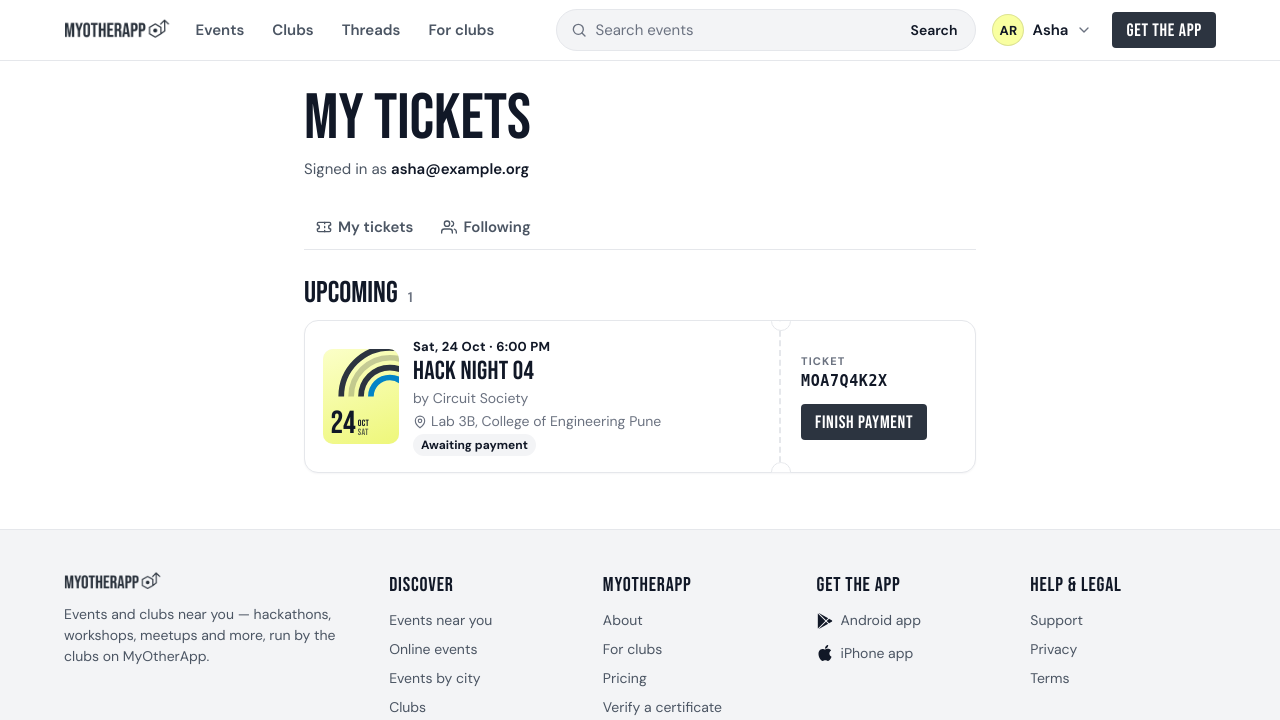
Test: Finish payment, from My tickets › after a closed checkout, says the registration is kept and nothing was charged
This screenshot has width=1280, height=720.
Click the button with aria-label "Finish payment for Hack Night 04": click(864, 422) [801, 404, 927, 440]
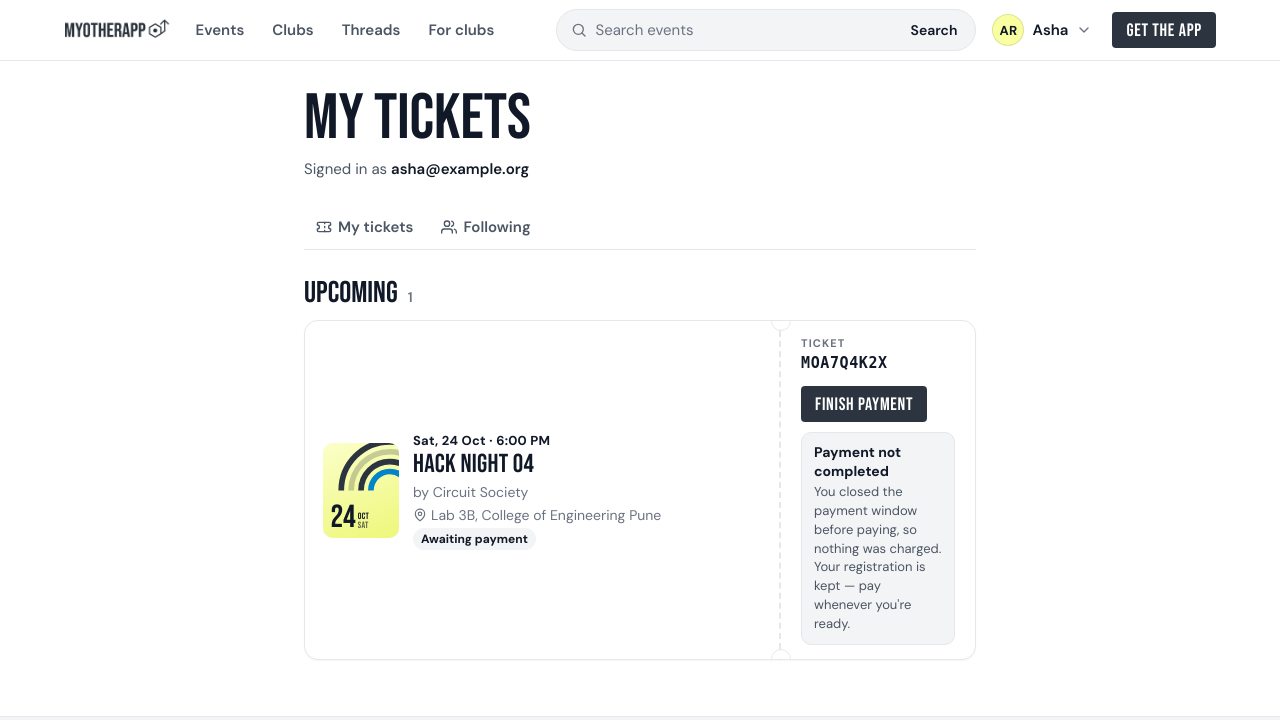
Expected: the message shows "Payment not completed", [814, 443, 901, 480]
Expected: the message shows "nothing was charged. Your registration is kept", [814, 483, 941, 632]
